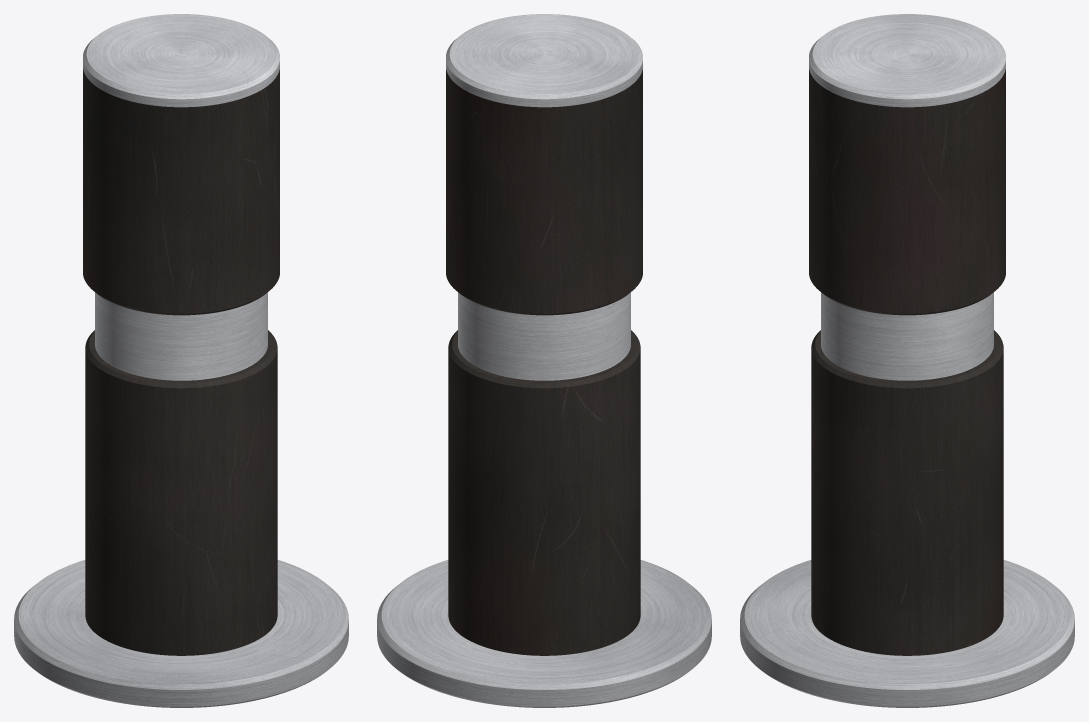
File: rook-black-hd.glb
3 renders of one model, left to right at view 1: azimuth 30°, elevation 25°; view 2: azimuth 150°, elevation 25°; view 3: azimuth 270°, elevation 25°, orthographic.
Visible parts, largest first — view 1: ferro-orbis_rook_black; view 2: ferro-orbis_rook_black; view 3: ferro-orbis_rook_black.
Part boxes in pixels (<box>): ferro-orbis_rook_black: <box>14,14,348,707</box>; ferro-orbis_rook_black: <box>377,14,711,707</box>; ferro-orbis_rook_black: <box>740,14,1074,707</box>.
Bounding box in the file's own units: 0.514 × 0.99 × 0.514.
3 materials, 3 textured.
